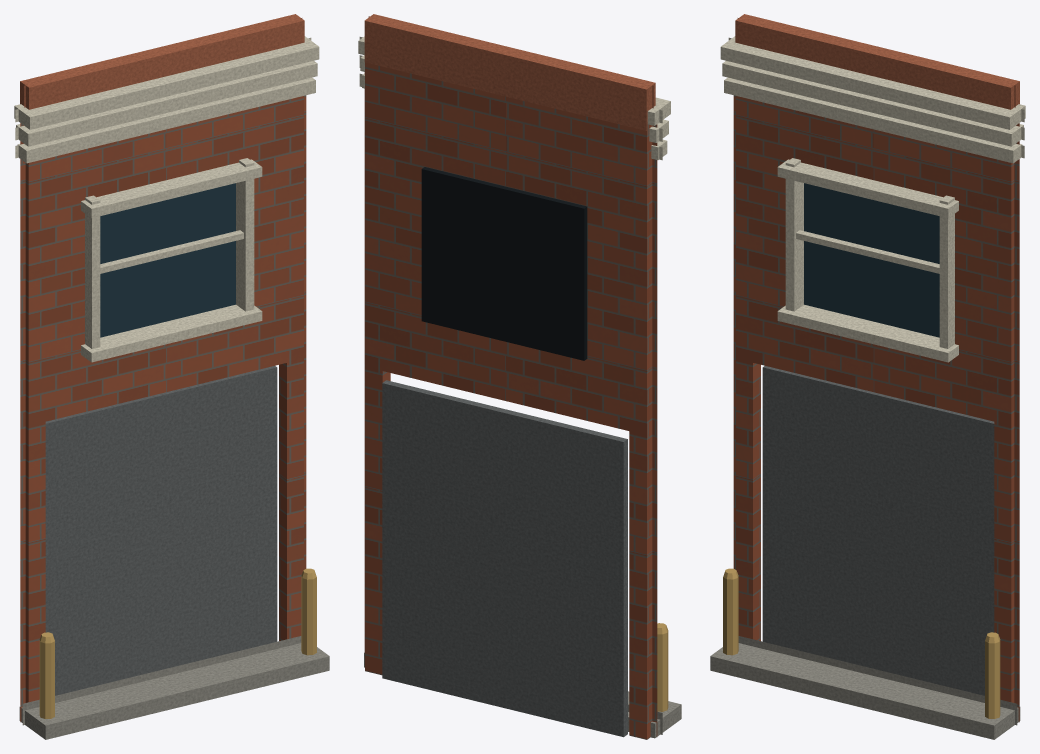
File: WHSE15_lod2.glb
3 renders of one model, left to right at view 1: azimuth 30°, elevation 25°; view 2: azimuth 150°, elevation 25°; view 3: azimuth 330°, elevation 25°, orthographic. The views are drawn at different scales.
Parts seen in each view (by area): view 1: WHSE15_FRONT_LOD2; view 2: WHSE15_FRONT_LOD2; view 3: WHSE15_FRONT_LOD2.
Part boxes in pixels (left/top/right/bottom): WHSE15_FRONT_LOD2: left=14, top=14, right=329, bottom=739; WHSE15_FRONT_LOD2: left=358, top=14, right=681, bottom=739; WHSE15_FRONT_LOD2: left=710, top=14, right=1025, bottom=739.
Size of the model in its own units: 3.44 by 7.05 by 0.65.
8 materials, 5 textured.
